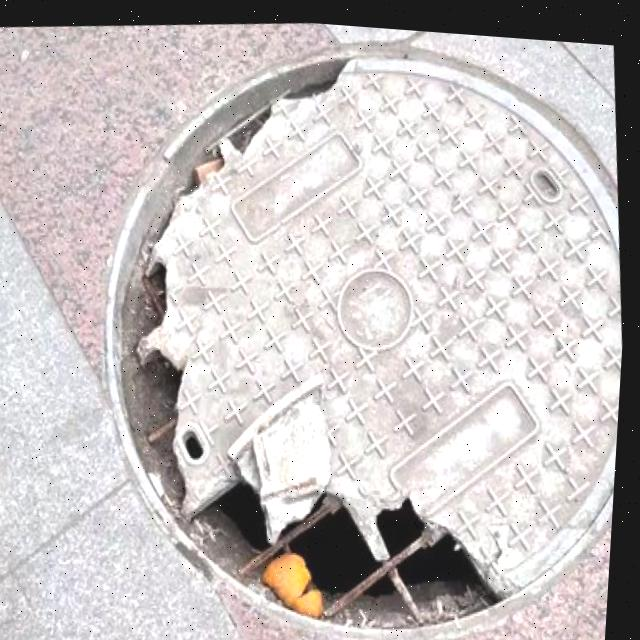manhole: (58, 5, 640, 640)
